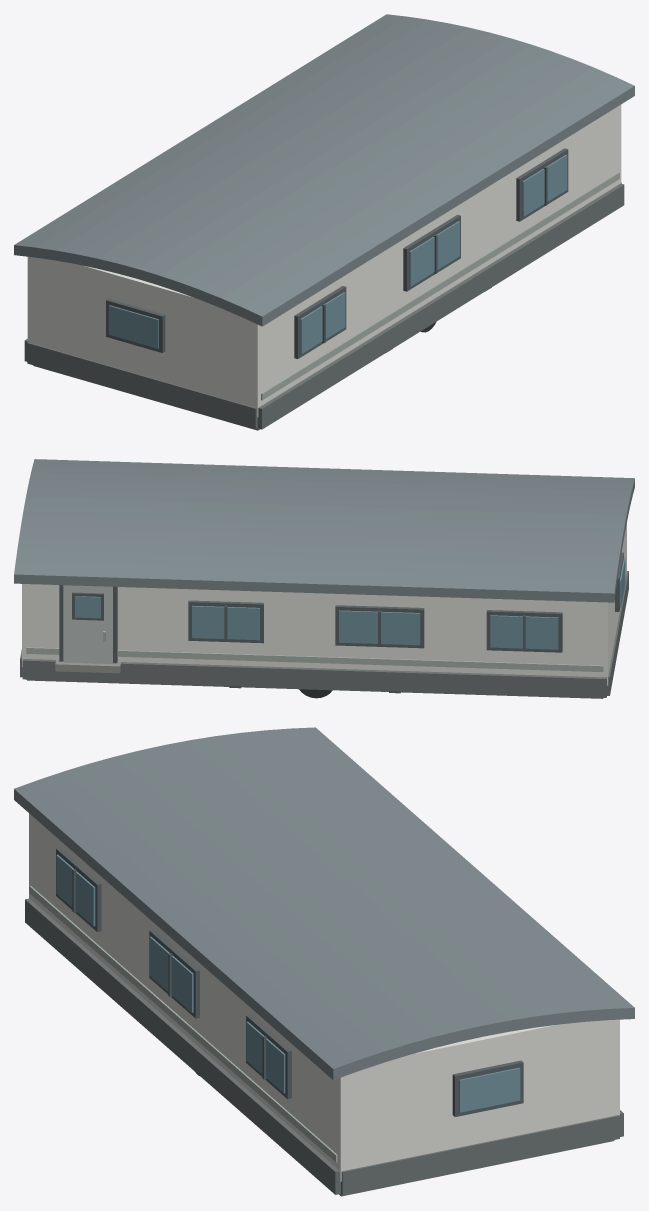
3 renders of one model, top to bottom at view 1: azimuth 30°, elevation 25°; view 2: azimuth 150°, elevation 25°; view 3: azimuth 270°, elevation 25°, orthographic. The views are drawn at different scales.
Visible parts, largest first — view 1: shallow_crowned_roof, main_caravan_body, lower_side_skirt_negative, lower_end_skirt_negative, side_stripe_negative, negative_side_window_2_glass, negative_side_window_3_glass, negative_side_window_1_glass, rear_end_window_glass, rear_end_window_frame, negative_side_window_2_frame, negative_side_window_3_frame (+1 smaller); view 2: shallow_crowned_roof, main_caravan_body, lower_side_skirt_positive, side_stripe_positive, entrance_door_panel, positive_side_window_2_glass, positive_side_window_1_glass, positive_side_window_3_glass, positive_side_window_2_frame, positive_side_window_1_frame, positive_side_window_3_frame, underframe_main (+5 smaller); view 3: shallow_crowned_roof, main_caravan_body, lower_side_skirt_negative, lower_end_skirt_positive, side_stripe_negative, front_end_window_glass, negative_side_window_2_glass, negative_side_window_1_glass, negative_side_window_3_glass, front_end_window_frame, negative_side_window_2_frame, negative_side_window_3_frame (+1 smaller).
Boxes of the visible parts, x1,y1,x2,y2 form: shallow_crowned_roof: (14, 14, 634, 326); main_caravan_body: (27, 104, 621, 417); lower_side_skirt_negative: (257, 183, 624, 429); lower_end_skirt_negative: (27, 342, 257, 429); side_stripe_negative: (261, 172, 619, 400); negative_side_window_2_glass: (409, 221, 459, 286); negative_side_window_3_glass: (522, 155, 567, 216); negative_side_window_1_glass: (300, 292, 345, 354); rear_end_window_glass: (108, 305, 158, 348); rear_end_window_frame: (106, 298, 165, 352); negative_side_window_2_frame: (403, 214, 460, 291); negative_side_window_3_frame: (516, 148, 568, 221); shallow_crowned_roof: (14, 459, 634, 602); main_caravan_body: (22, 523, 626, 685); lower_side_skirt_positive: (22, 659, 606, 697); side_stripe_positive: (26, 647, 603, 671); entrance_door_panel: (63, 585, 112, 663); positive_side_window_2_glass: (339, 610, 420, 645); positive_side_window_1_glass: (490, 615, 558, 649); positive_side_window_3_glass: (192, 605, 259, 640); positive_side_window_2_frame: (335, 605, 424, 648); positive_side_window_1_frame: (486, 610, 562, 652); positive_side_window_3_frame: (188, 600, 263, 643); underframe_main: (27, 679, 603, 698); shallow_crowned_roof: (14, 727, 634, 1080); main_caravan_body: (29, 813, 619, 1181); lower_side_skirt_negative: (25, 898, 340, 1194); lower_end_skirt_positive: (341, 1115, 619, 1195); side_stripe_negative: (29, 885, 337, 1162); front_end_window_glass: (459, 1067, 520, 1112); negative_side_window_2_glass: (149, 936, 193, 1012); negative_side_window_1_glass: (56, 854, 95, 926); negative_side_window_3_glass: (246, 1021, 285, 1093); front_end_window_frame: (452, 1060, 523, 1116); negative_side_window_2_frame: (149, 929, 199, 1018); negative_side_window_3_frame: (246, 1014, 291, 1099).
Bounding box in the file's own units: 11.16 × 2.5 × 8.57.
